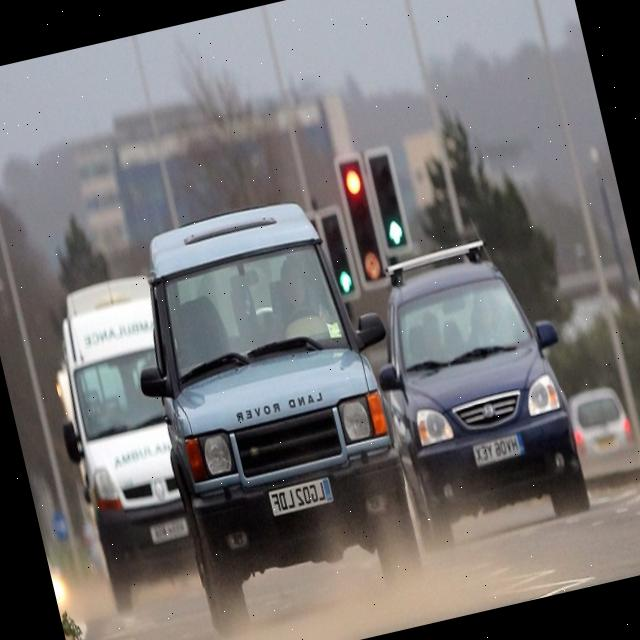car: (110, 188, 440, 634), (357, 230, 599, 551), (34, 272, 225, 612), (567, 384, 636, 463)
